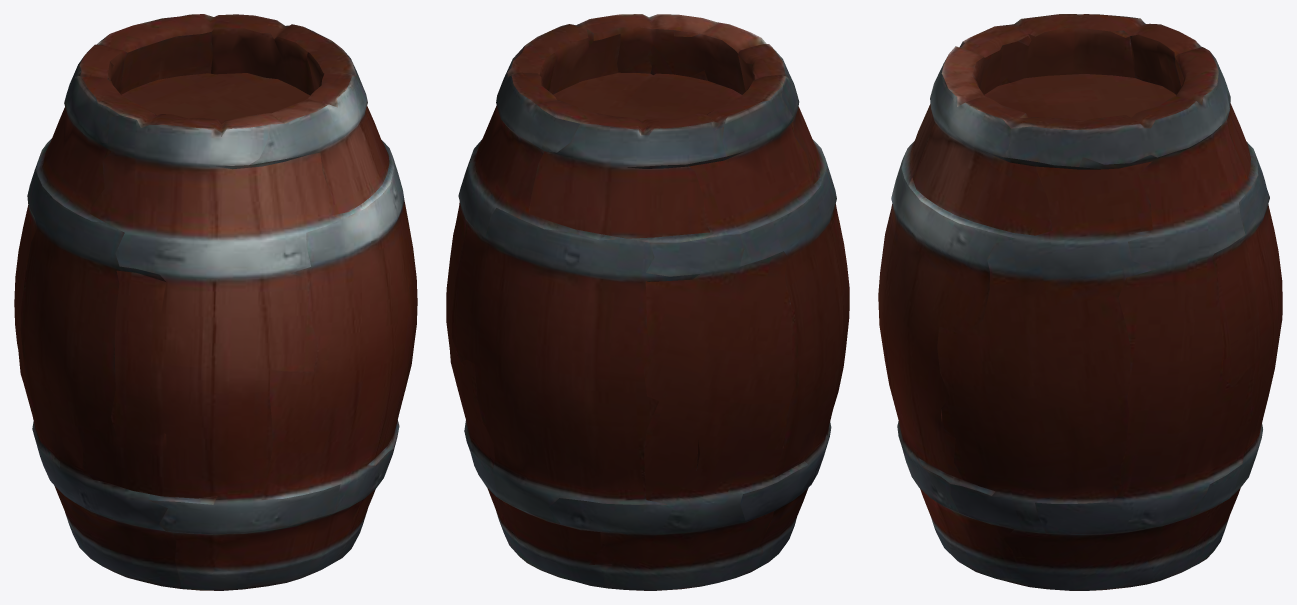
The picture shows the model from 3 angles, left to right: view 1: azimuth 30°, elevation 25°; view 2: azimuth 150°, elevation 25°; view 3: azimuth 270°, elevation 25°; orthographic projection.
Visible parts, largest first — view 1: geometry_0; view 2: geometry_0; view 3: geometry_0.
Part boxes in pixels (bbox=[...]): geometry_0: bbox=[14, 14, 417, 590]; geometry_0: bbox=[446, 14, 849, 590]; geometry_0: bbox=[878, 14, 1282, 590].
Size of the model in its own units: 0.7926 by 1 by 0.7947.
Materials: 1 (1 with a texture image).
